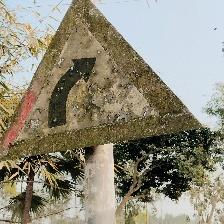Right-turn: (0, 0, 208, 160)
